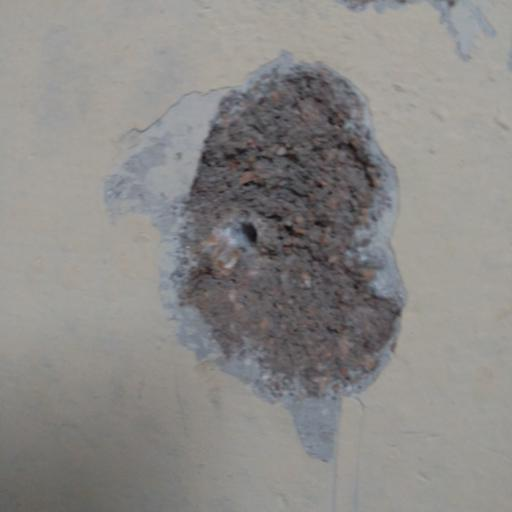spalling: (147, 48, 429, 476)
